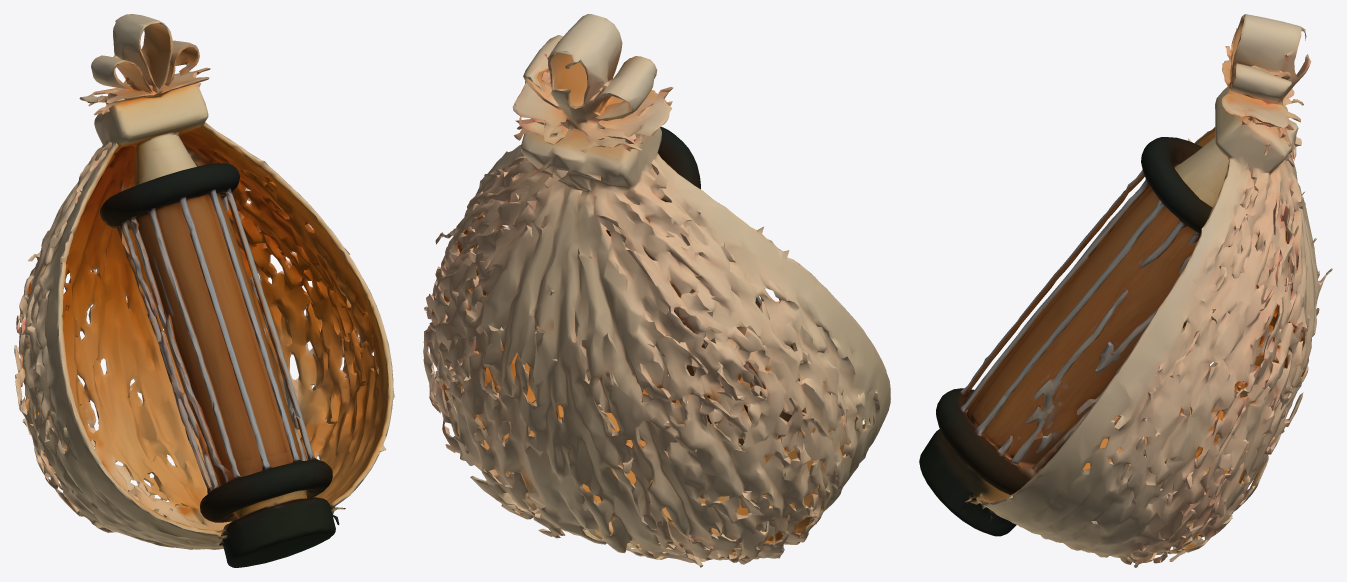
3 renders of one model, left to right at view 1: azimuth 30°, elevation 25°; view 2: azimuth 150°, elevation 25°; view 3: azimuth 270°, elevation 25°, orthographic. The views are drawn at different scales.
Visible parts, largest first — view 1: Object_2; view 2: Object_2; view 3: Object_2.
Boxes of the visible parts, bbox=[...] form: Object_2: bbox=[14, 14, 394, 567]; Object_2: bbox=[423, 14, 890, 567]; Object_2: bbox=[919, 14, 1332, 567].
Bounding box in the file's own units: 0.7744 × 1.06 × 0.7673.
Materials: 1 (1 with a texture image).
